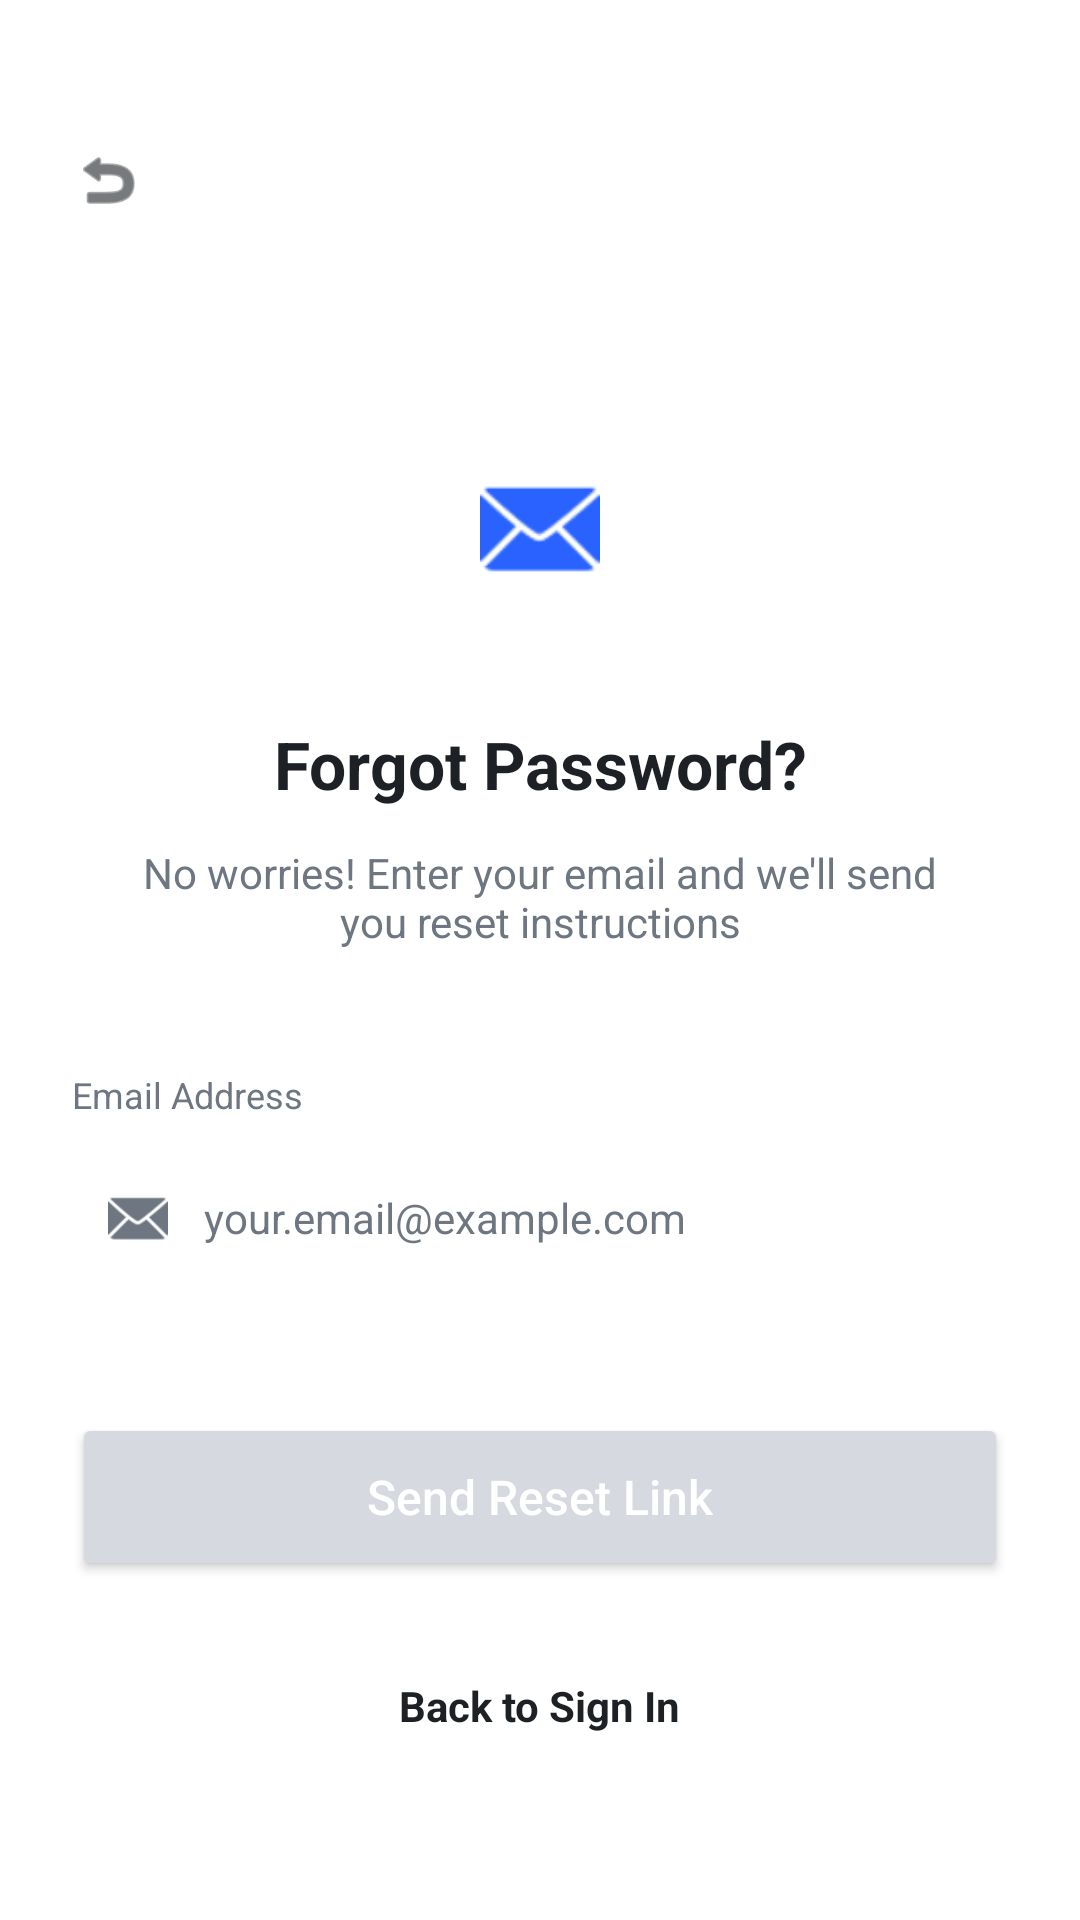

Named icons in this screenshot (1080px x 1920px) and their bounding boxes, (x1, y1, x2, y2):
revert: (83, 157, 135, 204)
